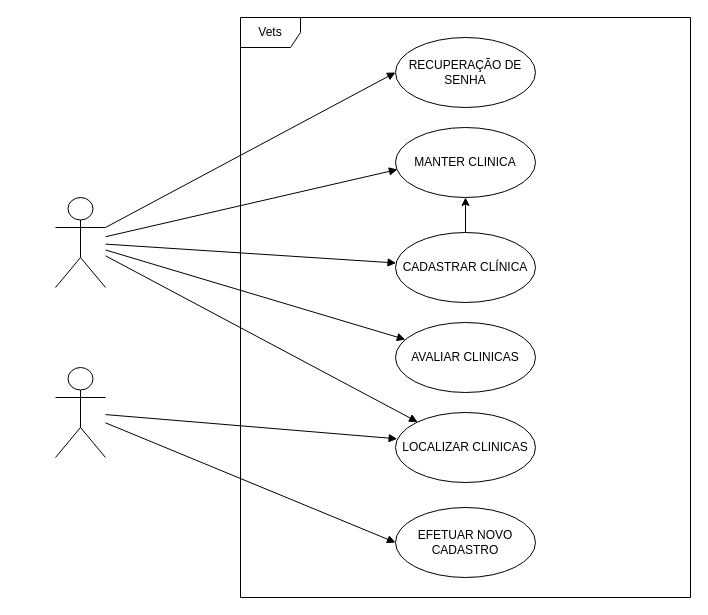
Image size: 708x615. Some labels were removed from this diagram. The centre of each missing label's shape, as x and y in pixels:
"Usuário Cadastrado" goes at (80,242).
"Usuário não cadastrado" goes at (80,412).
